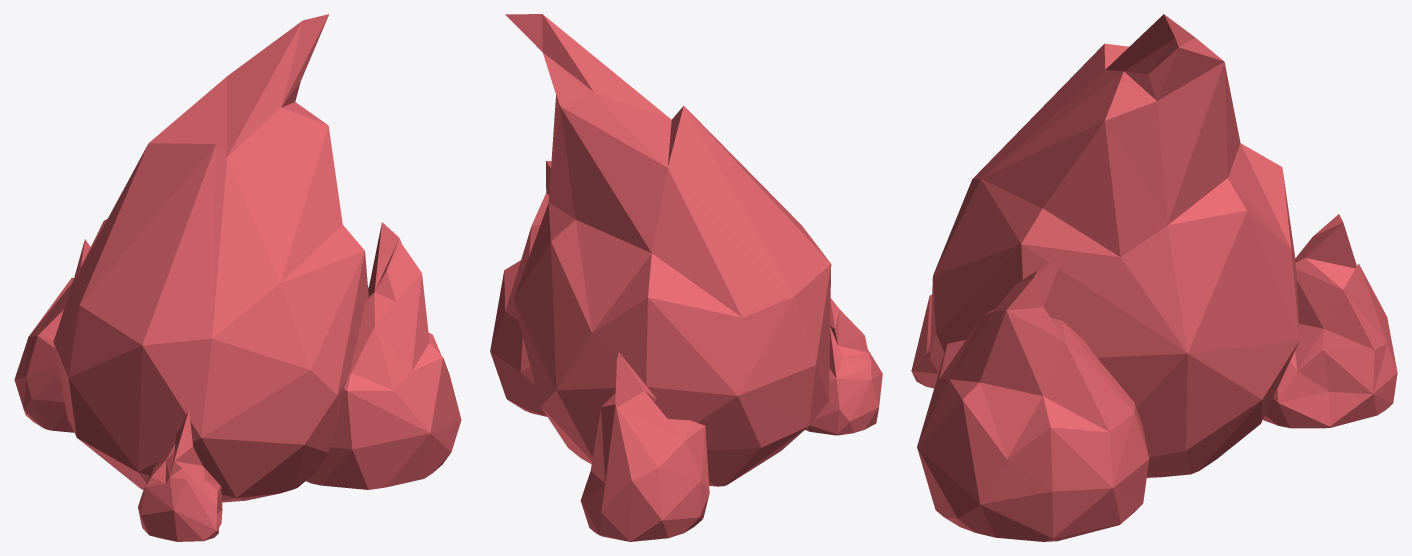
Rendered from Big_Fire.fbx.
The picture shows the model from 3 angles, left to right: view 1: azimuth 30°, elevation 25°; view 2: azimuth 150°, elevation 25°; view 3: azimuth 270°, elevation 25°; orthographic projection. The views are drawn at different scales.
Visible parts, largest first — view 1: Sphere.002; view 2: Sphere.002; view 3: Sphere.002.
Boxes of the visible parts, x1=… form: Sphere.002: x1=14, y1=14, x2=461, y2=541; Sphere.002: x1=490, y1=14, x2=882, y2=541; Sphere.002: x1=911, y1=14, x2=1397, y2=541.
Size of the model in its own units: 327 by 367 by 336.
